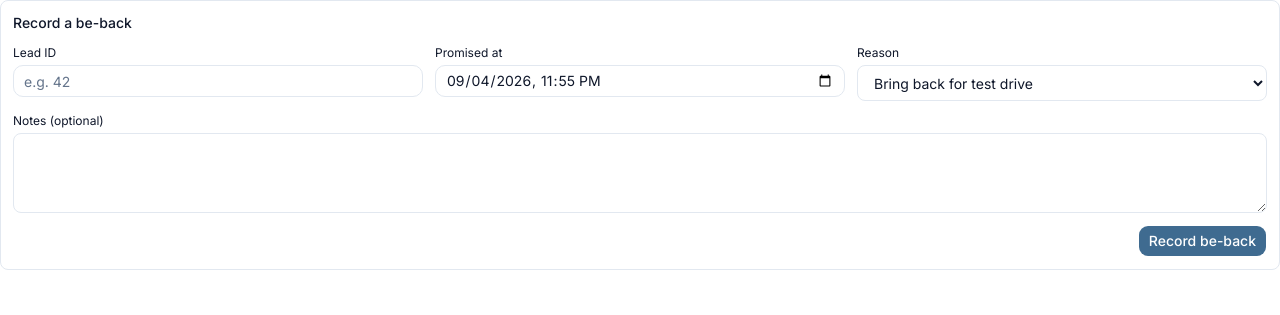
Test: RecordBeBackForm › blocks submit on invalid lead id and does not hit the API
This screenshot has width=1280, height=315.
Step 1. Click the button with test id "record-be-back-submit" → (1202, 241), box [1138, 225, 1267, 257]
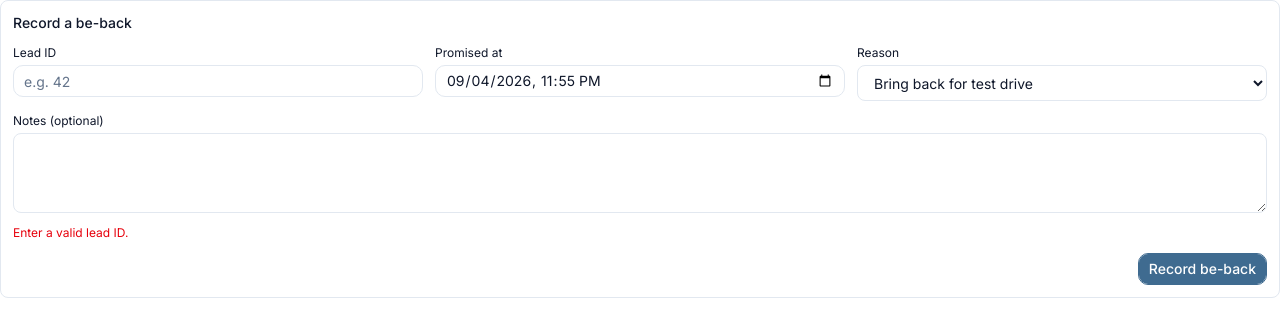
Expected: the text with test id "record-be-back-error" shows "valid lead ID", [13, 225, 128, 240]
